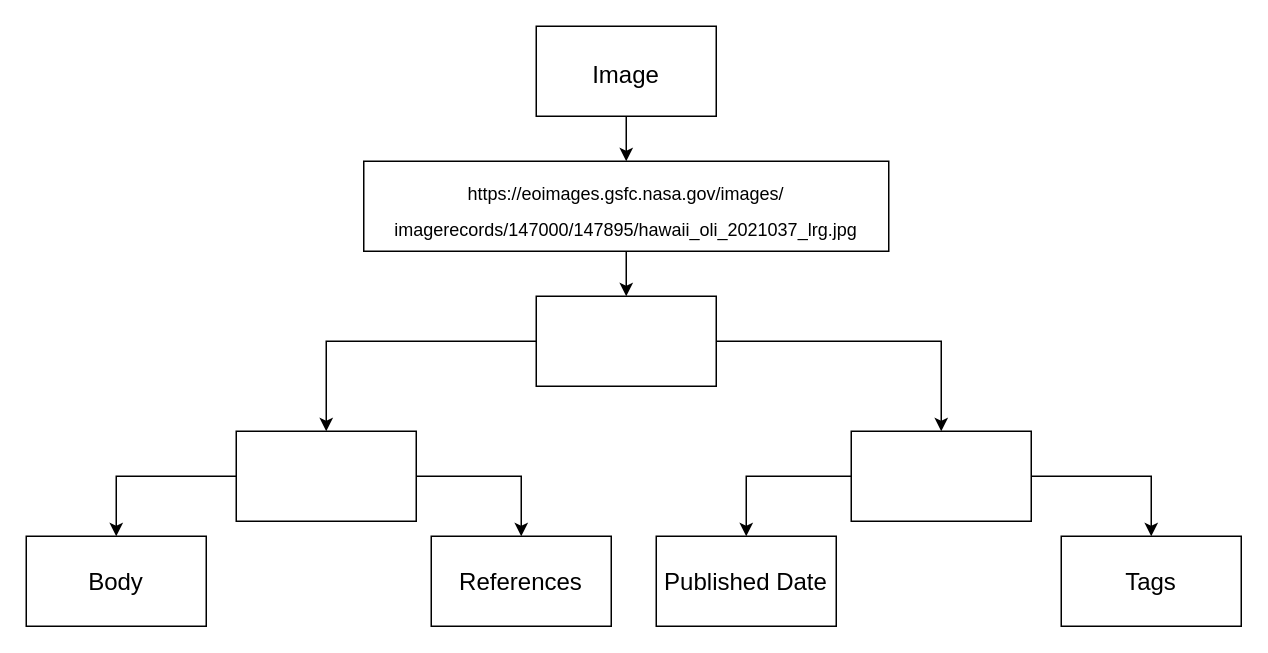
The diagram is 1268 pixels wide and 653 high, and some of its shapes have lost their labels. Here are the shapes that lost their labels. From the top down, the box of each, then its label:
(535, 295, 716, 386): Date
(235, 430, 416, 521): Article
(850, 430, 1031, 521): Description
